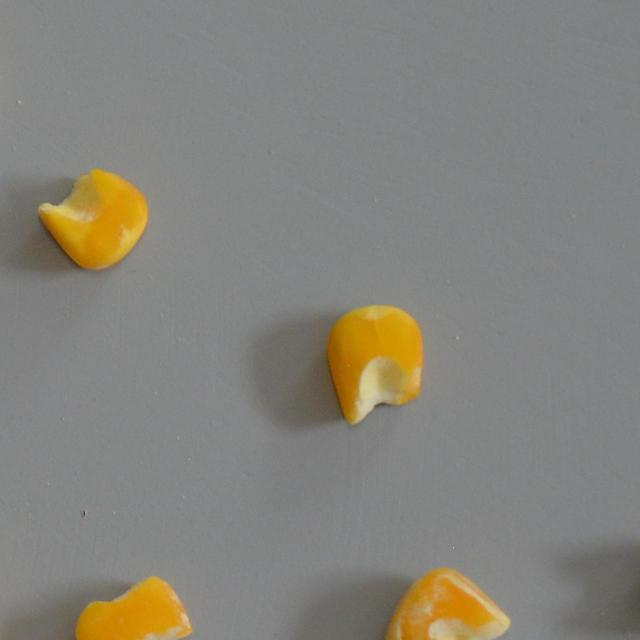dañado: (322, 298, 430, 430), (34, 160, 154, 276), (380, 560, 512, 640), (68, 572, 196, 640)
